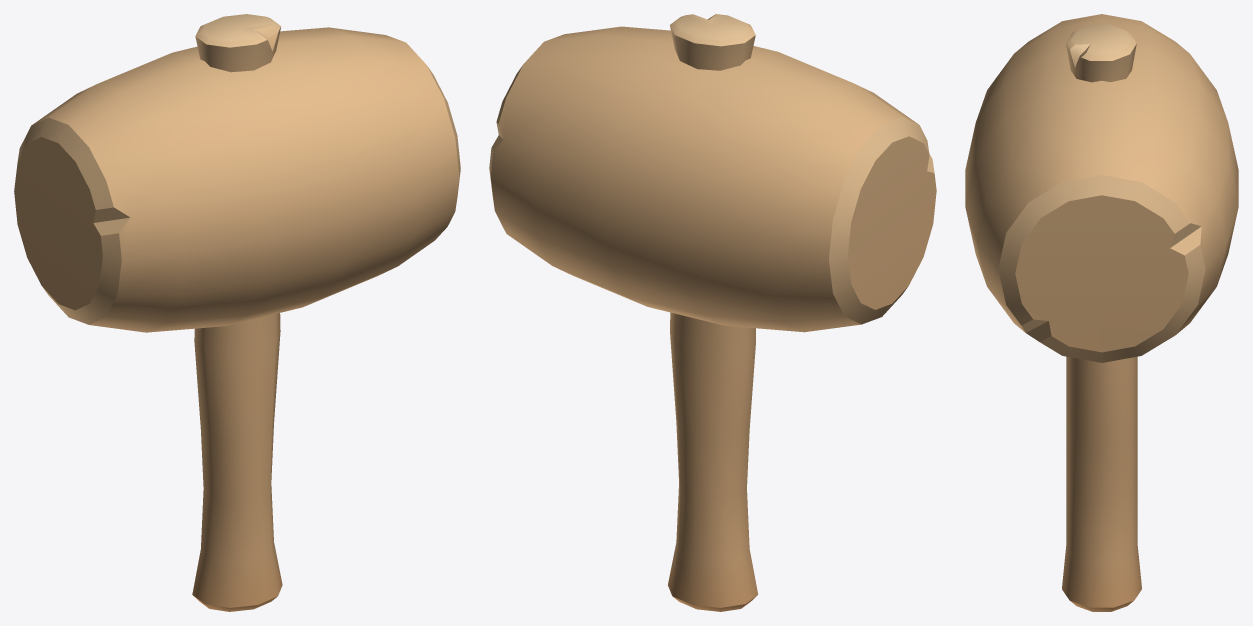
The model's file is KFB_Loot_giant_mallet.r1.glb.
3 views of the same model, side by side, from view 1: azimuth 30°, elevation 25°; view 2: azimuth 150°, elevation 25°; view 3: azimuth 270°, elevation 25° (orthographic). The views are drawn at different scales.
Parts seen in each view (by area): view 1: KFB_Loot_giant_mallet; view 2: KFB_Loot_giant_mallet; view 3: KFB_Loot_giant_mallet.
Boxes of the visible parts, bbox=[...] form: KFB_Loot_giant_mallet: bbox=[14, 14, 460, 611]; KFB_Loot_giant_mallet: bbox=[489, 14, 936, 611]; KFB_Loot_giant_mallet: bbox=[965, 14, 1238, 611].
Size of the model in its own units: 1.31 by 2 by 0.8844.
Materials: 1 (1 with a texture image).
